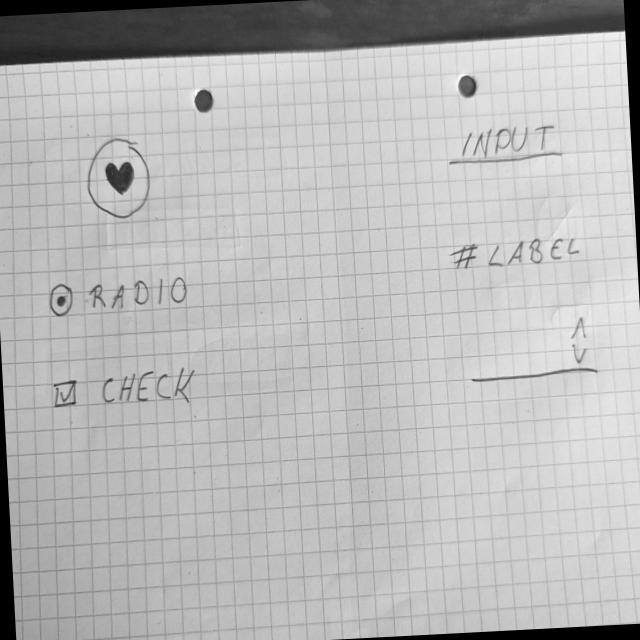checkbox: (50, 364, 201, 416)
icon-button: (85, 134, 156, 223)
input: (445, 121, 568, 170)
label: (447, 230, 584, 276)
number-input: (466, 315, 602, 389)
radio: (45, 271, 192, 321)
